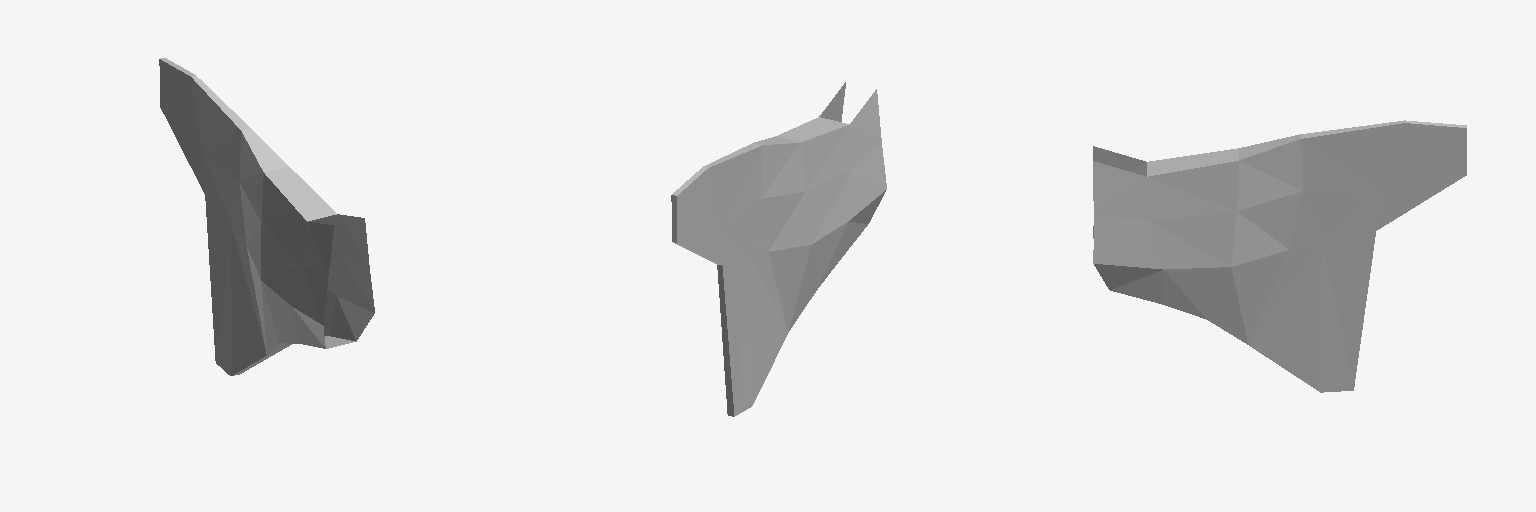
The model's file is colaPez4.obj.
The picture shows the model from 3 angles: view 1: azimuth 30°, elevation 25°; view 2: azimuth 150°, elevation 25°; view 3: azimuth 270°, elevation 25°; orthographic projection.
Parts seen in each view (by area): view 1: colaPez5:TropicalFish04; view 2: colaPez5:TropicalFish04; view 3: colaPez5:TropicalFish04.
Part boxes in pixels (x1,y1,x2,y2): colaPez5:TropicalFish04: (159, 58, 374, 375); colaPez5:TropicalFish04: (671, 82, 886, 416); colaPez5:TropicalFish04: (1093, 120, 1466, 392).
Size of the model in its own units: 0.1038 by 0.5146 by 0.651.